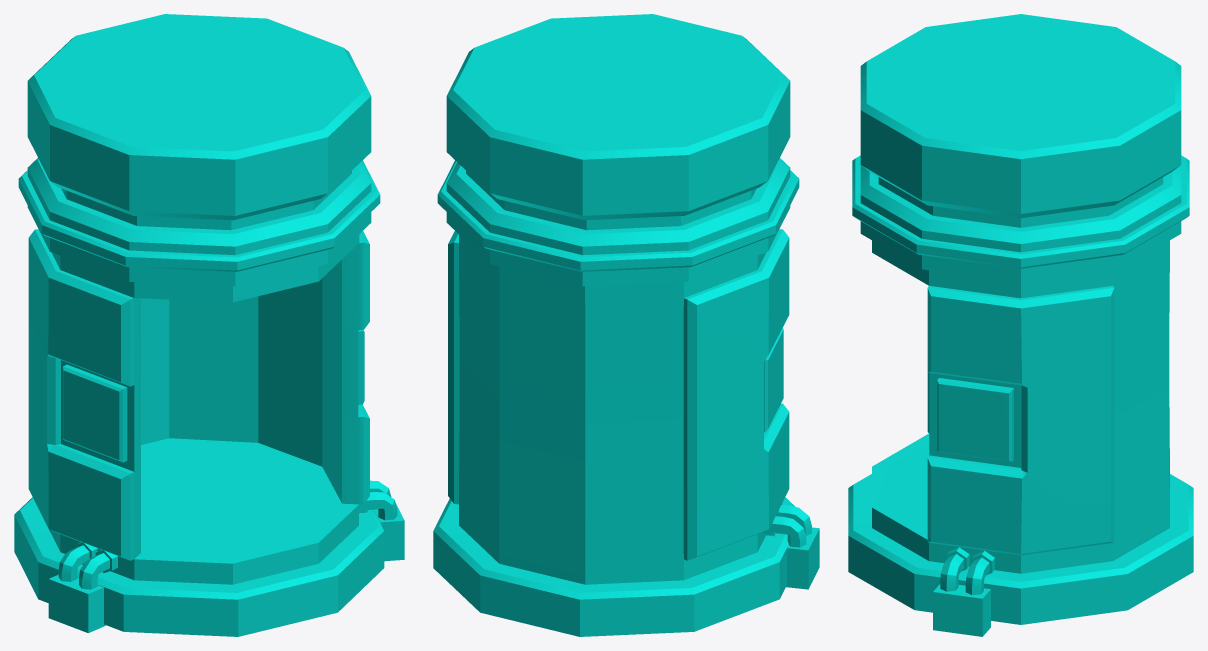
The model's file is TubeC1Opened.fbx.
The picture shows the model from 3 angles, left to right: view 1: azimuth 30°, elevation 25°; view 2: azimuth 150°, elevation 25°; view 3: azimuth 270°, elevation 25°; orthographic projection. The views are drawn at different scales.
Parts seen in each view (by area): view 1: pCylinder132; view 2: pCylinder132; view 3: pCylinder132.
Part boxes in pixels (left/top/right/bottom): pCylinder132: left=14, top=14, right=404, bottom=636; pCylinder132: left=433, top=14, right=819, bottom=636; pCylinder132: left=848, top=14, right=1193, bottom=636.
Size of the model in its own units: 322 by 431 by 287.
